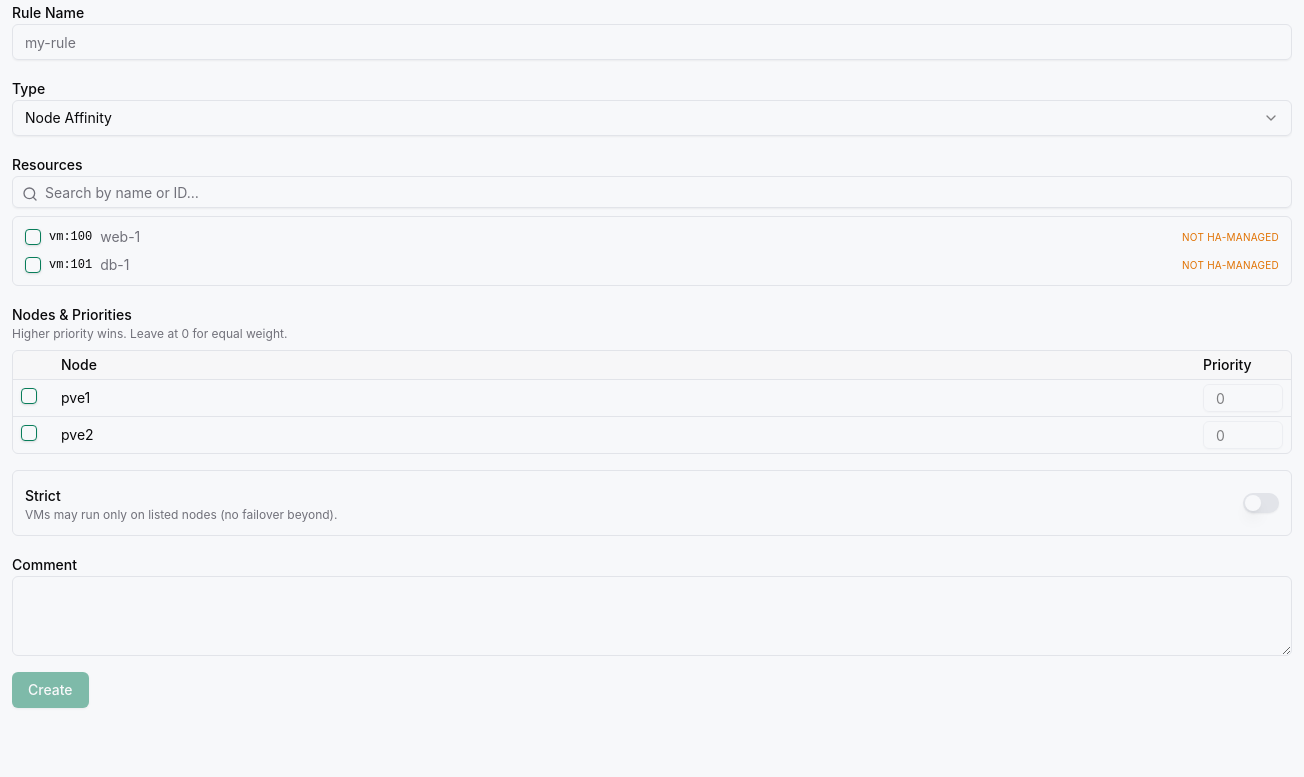
Test: HARuleForm — inline HA management › reveals inline HA-management controls when an unmanaged resource is selected
This screenshot has width=1304, height=777.
Check: the text "Add it to HA management" is not shown
Click the checkbox next to "vm:100" at (33, 237), box [25,229,41,245]
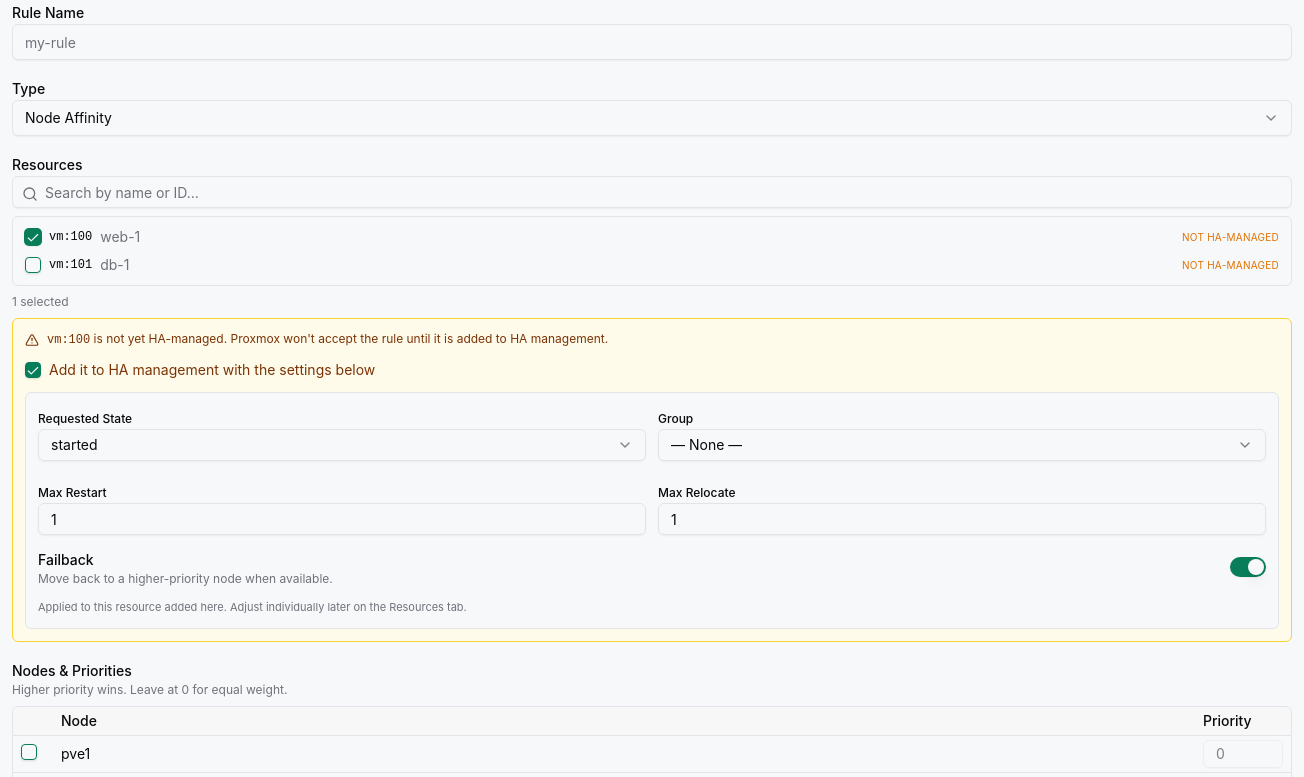
Check: the text "Add it to HA management with the settings below" is shown, box [49,360,375,380]
Check: the text "Requested State" is shown, box [38,411,132,426]
Check: the text "Max Restart" is shown, box [38,485,107,500]
